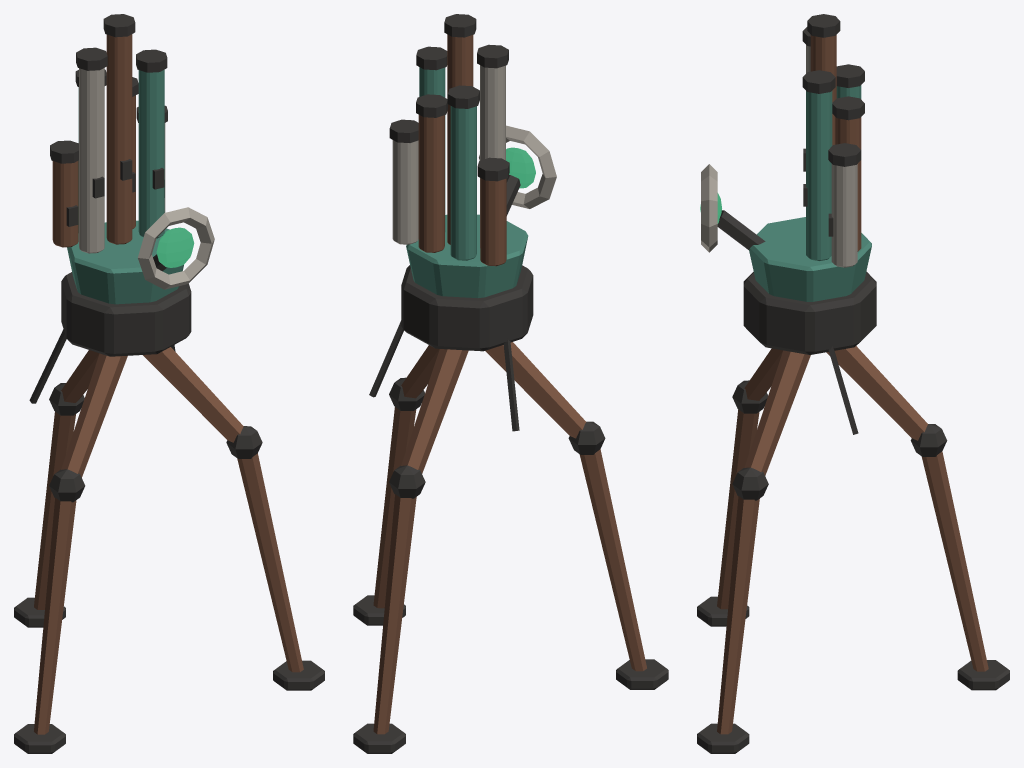
Rendered from exo-cantor.glb.
3 renders of one model, left to right at view 1: azimuth 30°, elevation 25°; view 2: azimuth 150°, elevation 25°; view 3: azimuth 270°, elevation 25°, orthographic.
Visible parts, largest first — view 1: body; view 2: body; view 3: body.
Part boxes in pixels (<box>): body: <box>14,14,324,753</box>; body: <box>353,14,668,753</box>; body: <box>697,14,1009,753</box>.
Size of the model in its own units: 3.81 by 7.98 by 3.42.
